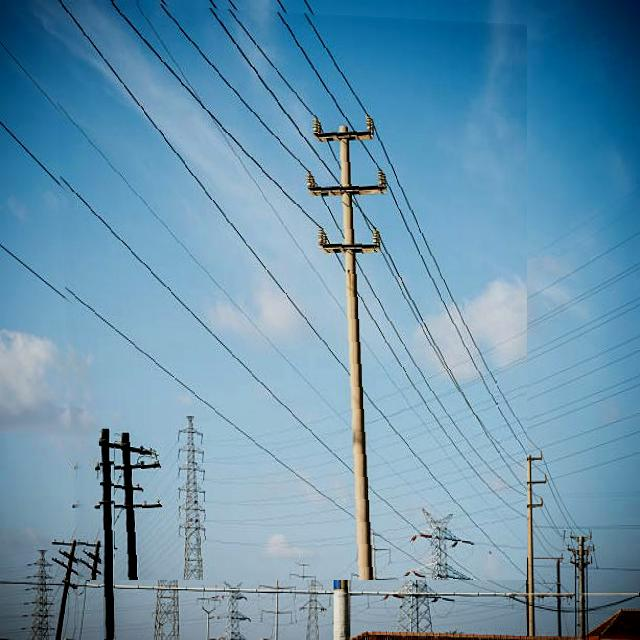crossarm: (298, 153, 378, 182), (309, 212, 371, 239), (310, 102, 370, 129)
pole: (332, 112, 344, 523), (100, 429, 114, 639)
wire: (52, 0, 527, 580), (107, 1, 487, 500)
